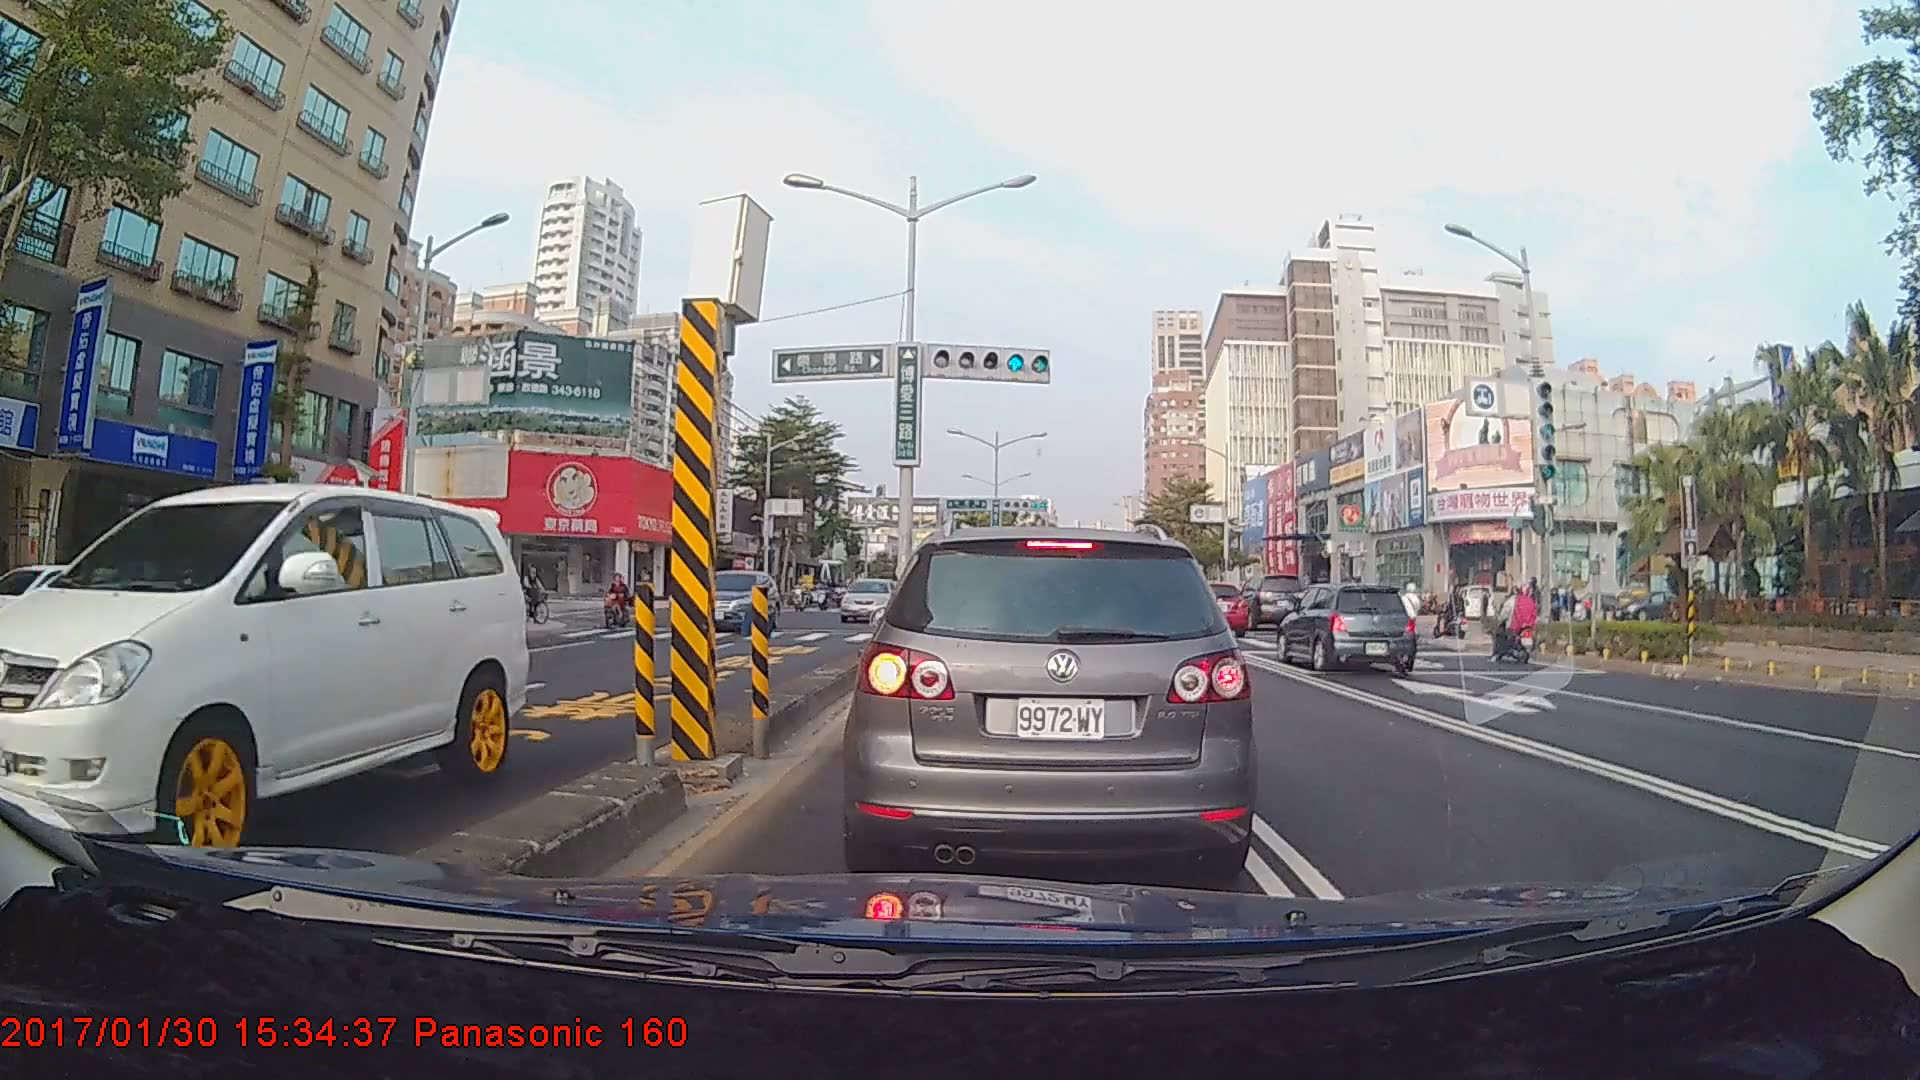rider: (1485, 582, 1548, 668), (598, 566, 634, 635), (1436, 582, 1473, 646)
vehicle: (0, 480, 530, 863), (855, 520, 1248, 884), (1273, 582, 1417, 673), (684, 569, 779, 633), (1233, 570, 1306, 630), (1179, 581, 1249, 637), (838, 577, 898, 622)
